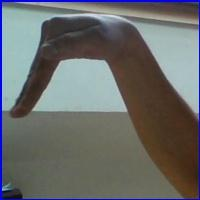del: (11, 13, 151, 131)
